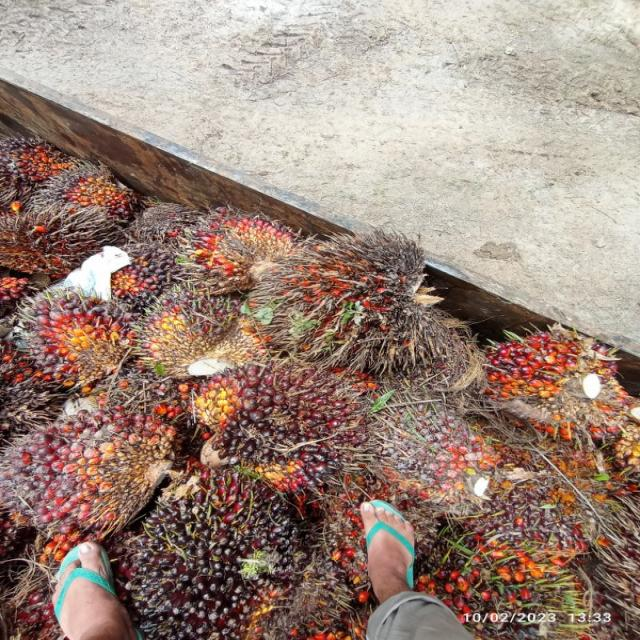fraksi 00: (123, 469, 313, 640), (170, 192, 302, 296), (377, 394, 502, 501), (10, 291, 140, 385), (22, 151, 135, 240), (123, 289, 238, 376), (103, 230, 186, 302)
fraksi 1: (1, 393, 186, 543), (189, 364, 358, 503)
fraksi 3: (482, 308, 638, 439)
fraksi 4: (237, 215, 462, 370)
